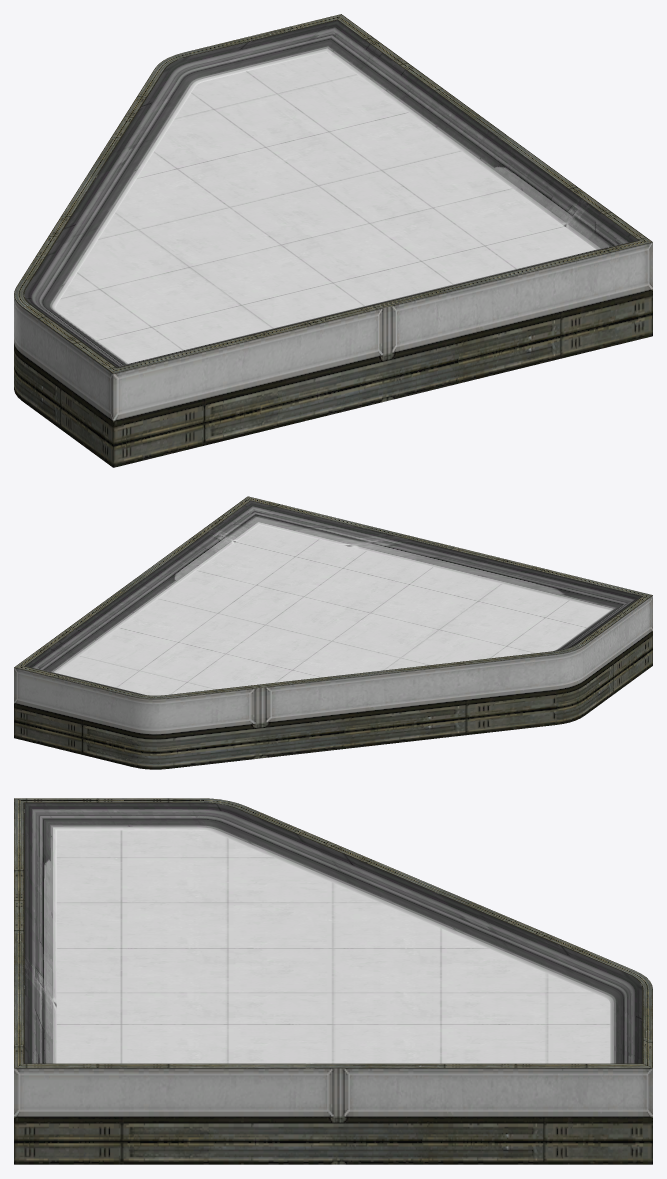
The model's file is Spctr_Roof_02.FBX.
3 renders of one model, top to bottom at view 1: azimuth 30°, elevation 25°; view 2: azimuth 150°, elevation 25°; view 3: azimuth 270°, elevation 25°, orthographic. The views are drawn at different scales.
Visible parts, largest first — view 1: Spctr_Roof_02; view 2: Spctr_Roof_02; view 3: Spctr_Roof_02.
Part boxes in pixels (x1=…): Spctr_Roof_02: x1=14, y1=14, x2=652, y2=467; Spctr_Roof_02: x1=14, y1=496, x2=652, y2=769; Spctr_Roof_02: x1=14, y1=798, x2=652, y2=1164.
Size of the model in its own units: 6 by 1 by 6.
